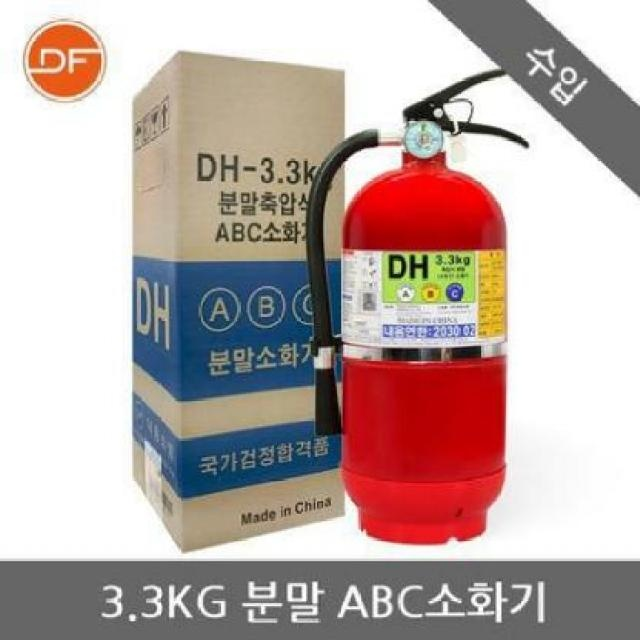fire extinguisher: (305, 68, 530, 545)
